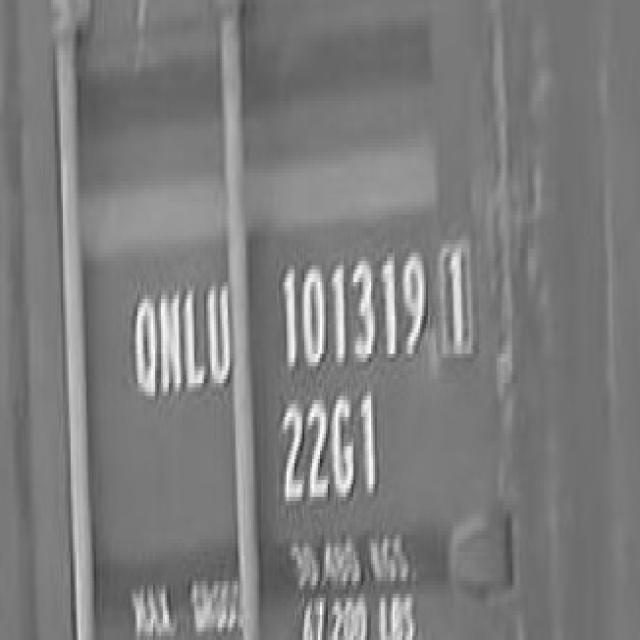dv: (437, 228, 478, 358)
owner: (123, 260, 235, 404)
serial: (281, 232, 427, 369)
size: (276, 385, 385, 511)
